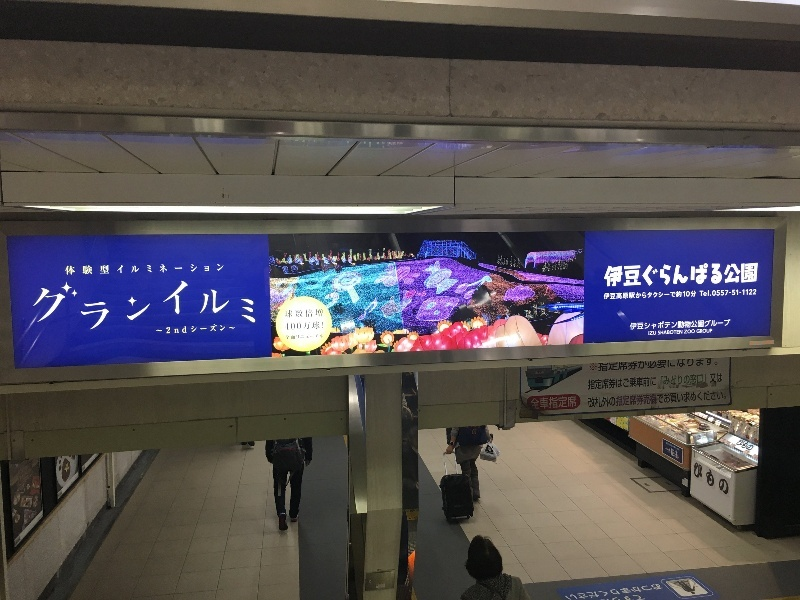text: (49, 279, 64, 333), (65, 279, 80, 333), (81, 279, 96, 333), (97, 279, 112, 333), (113, 279, 128, 333), (129, 279, 144, 333), (145, 279, 160, 333), (161, 279, 176, 333), (177, 279, 192, 333), (193, 279, 208, 333), (209, 279, 224, 333), (225, 279, 240, 333), (241, 279, 256, 333), (34, 279, 48, 333), (705, 460, 720, 499), (609, 262, 624, 289), (625, 262, 640, 289), (641, 262, 656, 289), (657, 262, 672, 289), (673, 262, 688, 289), (689, 262, 704, 289), (705, 262, 720, 289), (721, 262, 736, 289), (737, 262, 752, 289), (721, 460, 731, 499), (695, 460, 704, 499), (209, 261, 225, 279), (593, 390, 608, 409), (609, 390, 624, 409), (625, 390, 640, 409), (641, 390, 656, 409), (657, 390, 672, 409), (673, 390, 688, 409), (689, 390, 704, 409), (705, 390, 720, 409), (65, 261, 80, 279), (81, 261, 96, 279), (97, 261, 112, 279), (113, 261, 128, 279), (129, 261, 144, 279), (145, 261, 160, 279), (161, 261, 176, 279), (177, 261, 192, 279), (193, 261, 208, 279), (577, 584, 592, 600), (593, 584, 608, 600), (609, 584, 624, 600), (625, 584, 640, 600), (641, 584, 656, 600), (561, 396, 577, 411), (545, 396, 560, 411), (641, 376, 657, 390), (609, 358, 624, 372), (625, 358, 640, 372), (641, 358, 656, 372), (657, 358, 672, 372), (673, 358, 688, 372), (689, 358, 704, 372), (593, 376, 608, 390), (609, 376, 624, 390), (625, 376, 640, 390), (530, 396, 544, 411), (563, 584, 576, 600), (705, 358, 718, 372), (161, 323, 176, 335), (177, 323, 192, 335), (193, 323, 208, 335), (209, 323, 224, 335), (641, 319, 656, 331), (657, 319, 672, 331), (673, 319, 688, 331), (689, 319, 704, 331), (705, 319, 720, 331), (673, 374, 688, 386), (689, 374, 704, 386), (753, 262, 759, 289), (609, 290, 624, 300), (625, 290, 640, 300), (641, 290, 656, 300), (657, 290, 672, 300), (673, 290, 688, 300), (225, 323, 237, 335), (598, 358, 608, 372), (289, 309, 304, 318), (305, 309, 320, 318), (289, 321, 304, 330), (305, 321, 320, 330), (705, 288, 720, 297), (721, 288, 736, 297), (737, 288, 752, 297), (661, 374, 672, 386), (743, 438, 752, 452), (630, 319, 640, 331), (721, 319, 731, 331), (710, 372, 720, 384), (657, 584, 664, 600), (604, 262, 608, 289), (721, 390, 726, 409), (289, 334, 304, 340), (305, 334, 320, 340), (689, 290, 697, 300), (588, 390, 592, 409), (657, 330, 672, 335), (609, 595, 624, 600), (625, 595, 640, 600), (673, 448, 678, 461), (673, 442, 680, 451), (588, 376, 592, 390), (666, 442, 672, 451), (603, 290, 608, 300), (673, 330, 683, 335), (156, 323, 160, 335), (699, 288, 704, 297), (648, 330, 656, 335), (696, 329, 704, 334), (705, 329, 713, 334), (753, 288, 757, 297), (689, 329, 695, 334), (666, 447, 672, 452), (602, 595, 608, 600), (753, 438, 755, 452), (285, 309, 288, 318), (285, 321, 288, 330), (321, 321, 324, 330), (721, 372, 723, 384), (684, 329, 688, 334), (641, 595, 645, 600), (321, 309, 323, 318), (321, 334, 324, 340), (671, 448, 672, 461), (286, 334, 288, 340), (705, 374, 706, 386)
